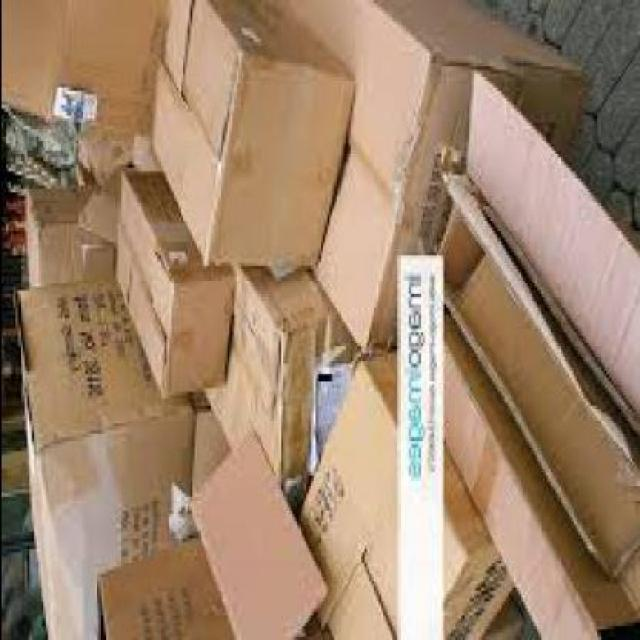CARDBOARD: (425, 168, 638, 580), (440, 315, 637, 636), (361, 60, 579, 346), (463, 63, 639, 409), (148, 0, 351, 258), (23, 412, 195, 637), (198, 258, 342, 500), (252, 0, 433, 189), (202, 53, 352, 265), (12, 279, 191, 452), (184, 424, 325, 636), (2, 0, 166, 177), (293, 347, 393, 636), (109, 164, 226, 391), (305, 186, 443, 346), (91, 532, 232, 636), (149, 60, 223, 245), (368, 0, 572, 66), (439, 448, 510, 637), (1, 108, 84, 257), (114, 172, 181, 328), (210, 0, 342, 74), (112, 228, 170, 388), (177, 3, 235, 154), (163, 266, 226, 386), (22, 416, 46, 633), (158, 0, 196, 88), (482, 594, 516, 637)
